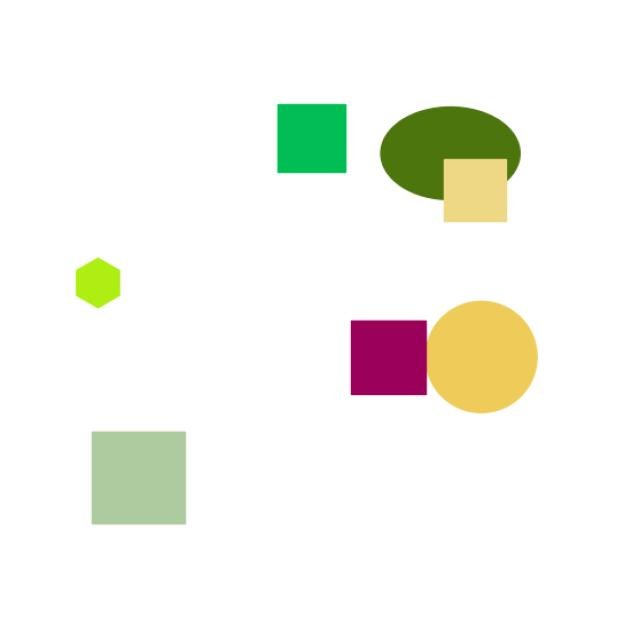Circle: (426, 276, 552, 435)
Hexagon: (46, 248, 152, 316)
Oval: (374, 98, 538, 198)
square: (67, 409, 226, 557), (248, 89, 360, 190), (337, 311, 440, 409), (429, 148, 519, 234)
